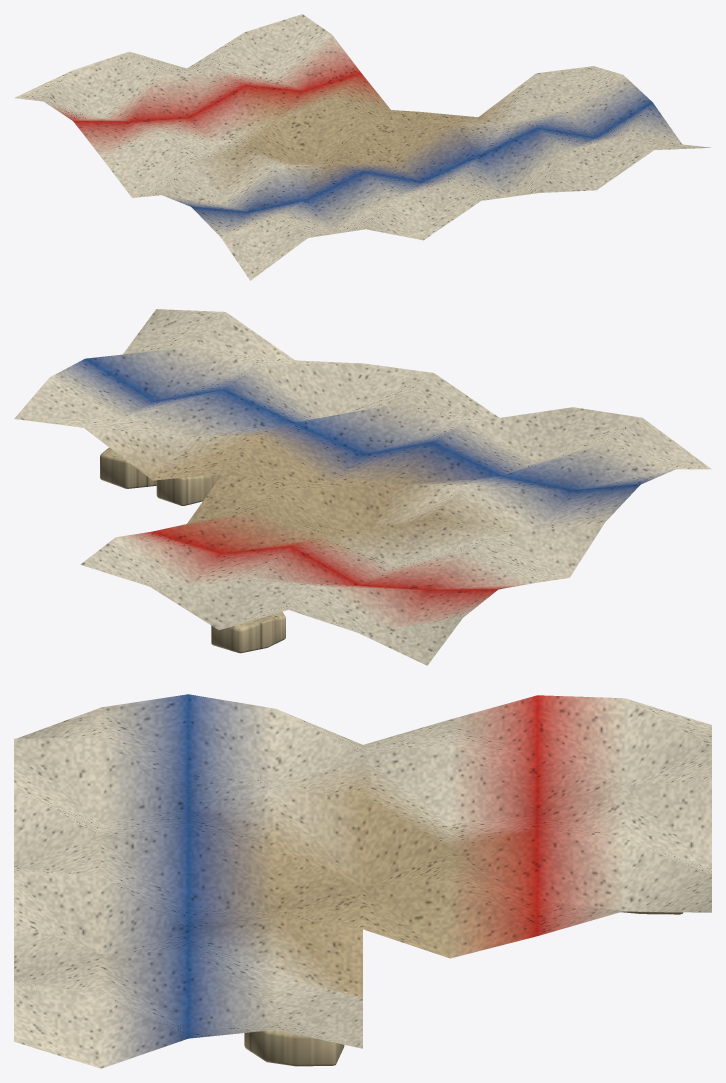
The model's file is food-15-half.glb.
3 views of the same model, one above another, from view 1: azimuth 30°, elevation 25°; view 2: azimuth 150°, elevation 25°; view 3: azimuth 270°, elevation 25° (orthographic). The views are drawn at different scales.
Parts seen in each view (by area): view 1: Food; view 2: Food; view 3: Food.
Boxes of the visible parts, x1,y1,x2,y2 form: Food: (15,14,710,280); Food: (14,309,711,665); Food: (14,694,711,1068).
Bounding box in the file's own units: 0.62 × 0.0758 × 0.55.
Materials: 1 (1 with a texture image).
